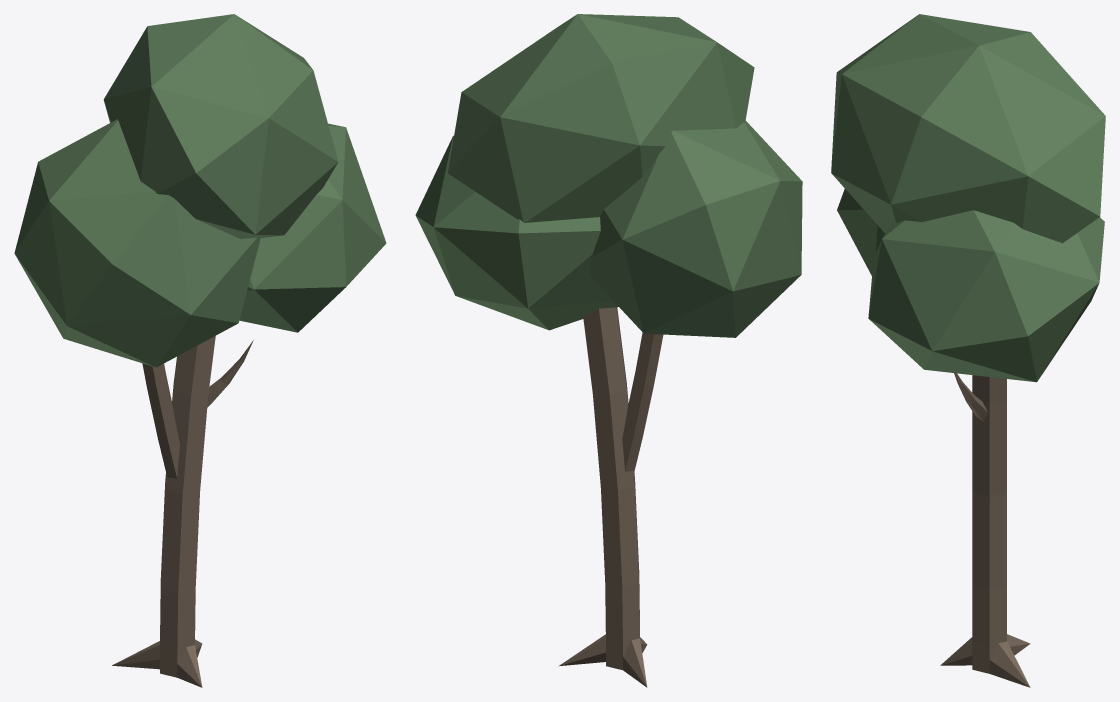
Rendered from BubbleTree.fbx.
The picture shows the model from 3 angles, left to right: view 1: azimuth 30°, elevation 25°; view 2: azimuth 150°, elevation 25°; view 3: azimuth 270°, elevation 25°; orthographic projection. The views are drawn at different scales.
Visible parts, largest first — view 1: BubbleTree; view 2: BubbleTree; view 3: BubbleTree.
Part boxes in pixels (x1=…): BubbleTree: x1=14, y1=14, x2=386, y2=687; BubbleTree: x1=415, y1=14, x2=802, y2=687; BubbleTree: x1=831, y1=14, x2=1105, y2=687.
Bounding box in the file's own units: 350 × 637 × 246.
